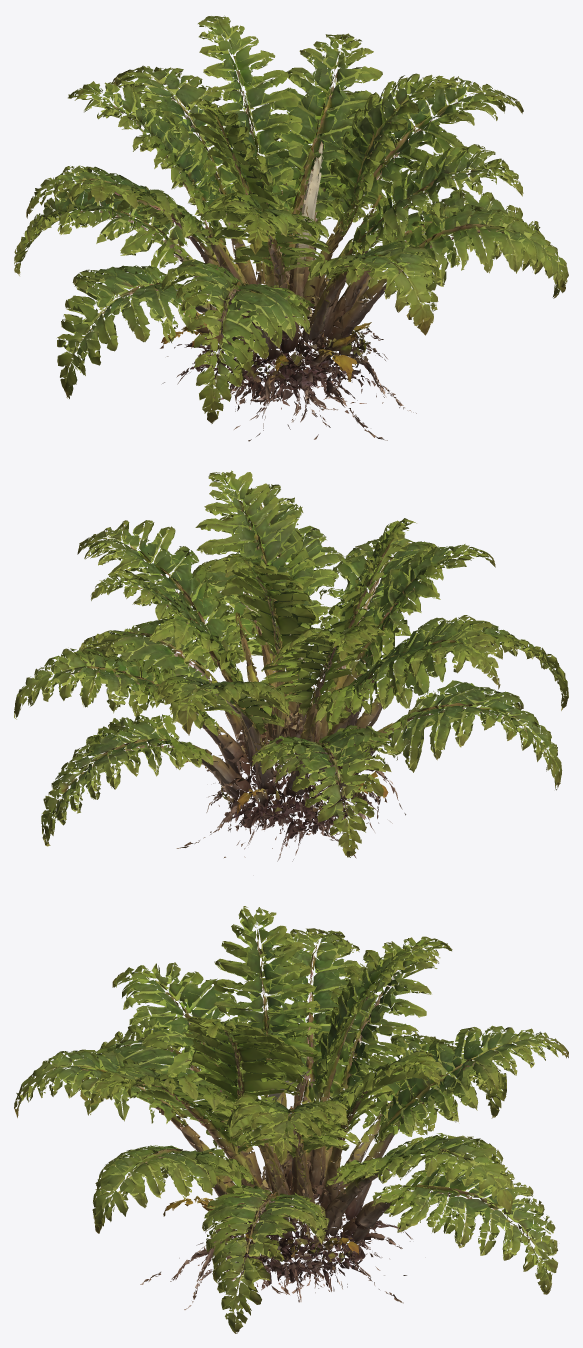
The model's file is bush.glb.
3 views of the same model, one above another, from view 1: azimuth 30°, elevation 25°; view 2: azimuth 150°, elevation 25°; view 3: azimuth 270°, elevation 25° (orthographic). The views are drawn at different scales.
Parts seen in each view (by area): view 1: model; view 2: model; view 3: model.
Part boxes in pixels (<box>): model: <box>14,15,568,441</box>; model: <box>14,470,568,861</box>; model: <box>14,906,568,1333</box>.
Bounding box in the file's own units: 1.89 × 1.19 × 1.86.
1 material, 1 textured.
